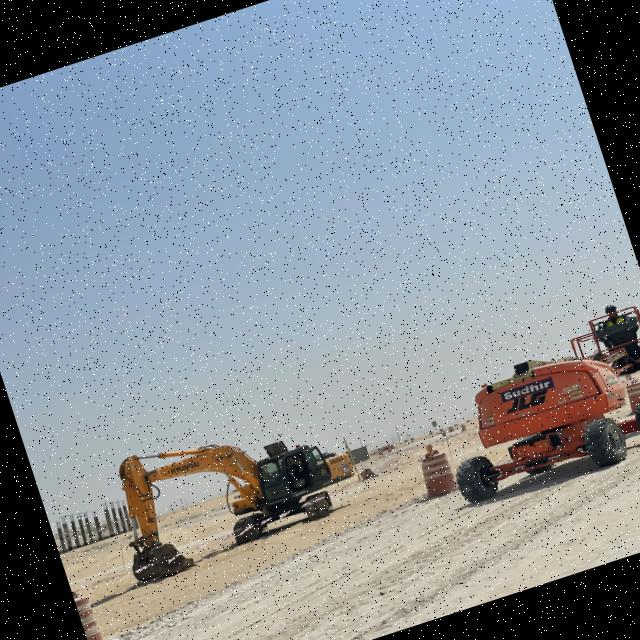Excavator: (94, 384, 373, 602)
